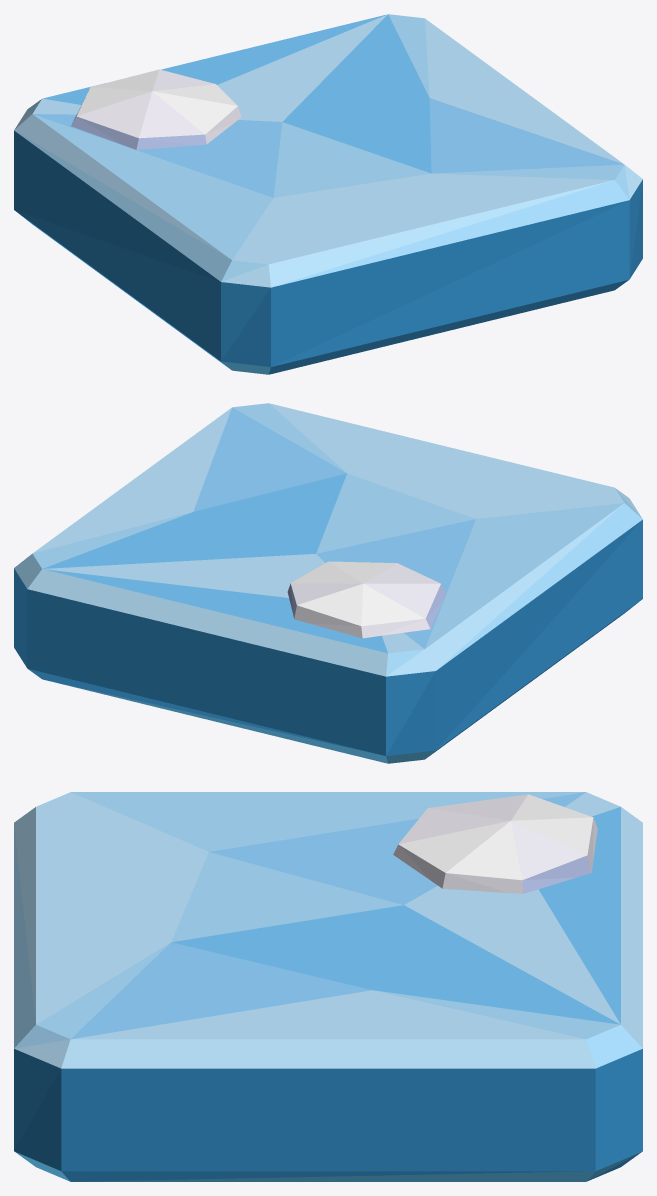
The model's file is tile.glb.
The picture shows the model from 3 angles, top to bottom: view 1: azimuth 30°, elevation 25°; view 2: azimuth 150°, elevation 25°; view 3: azimuth 270°, elevation 25°; orthographic projection. The views are drawn at different scales.
Parts seen in each view (by area): view 1: IceBlockTile; view 2: IceBlockTile; view 3: IceBlockTile.
Part boxes in pixels (x1,y1,x2,y2): IceBlockTile: (14,14,642,374); IceBlockTile: (14,403,642,763); IceBlockTile: (14,792,642,1181).
Size of the model in its own units: 1 by 0.3 by 1.
